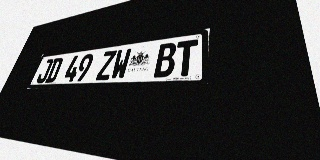4: (62, 55, 83, 82)
9: (74, 53, 95, 81)
B: (153, 42, 177, 78)
D: (44, 57, 64, 83)
J: (35, 59, 54, 83)
T: (174, 39, 198, 77)
W: (110, 48, 132, 80)
Z: (95, 50, 117, 80)
